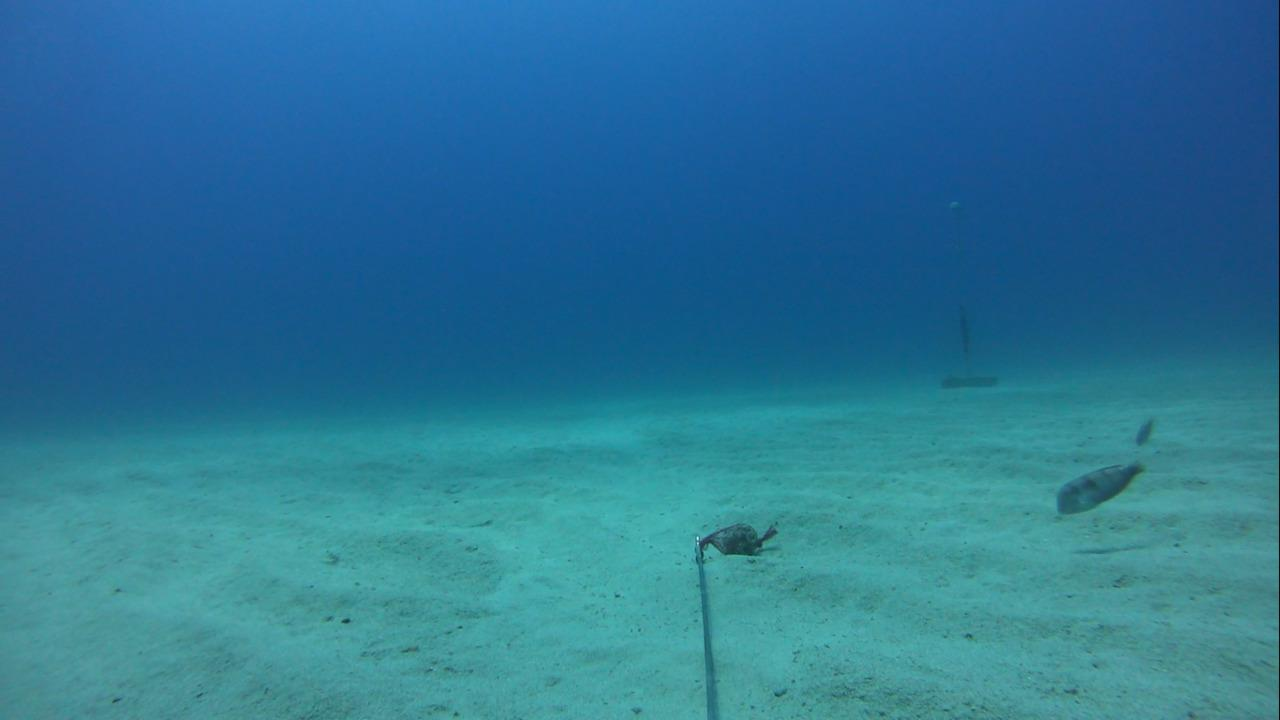raor: (1050, 456, 1149, 523), (1126, 408, 1175, 451)
